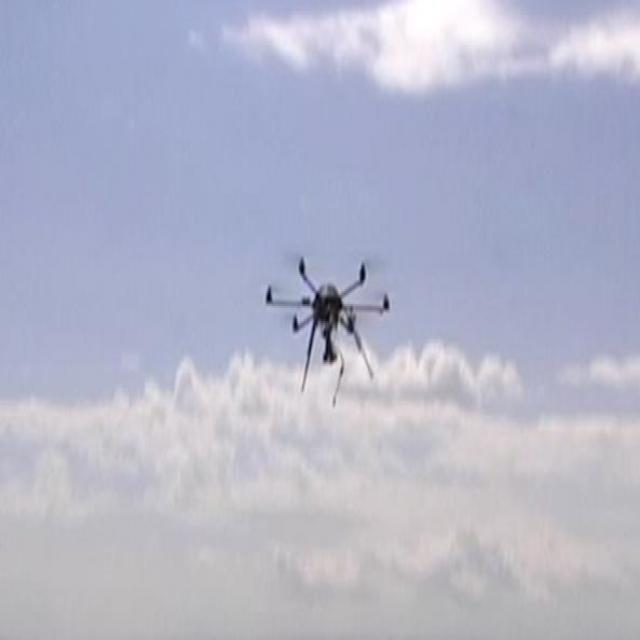UAV: (264, 254, 391, 396)
